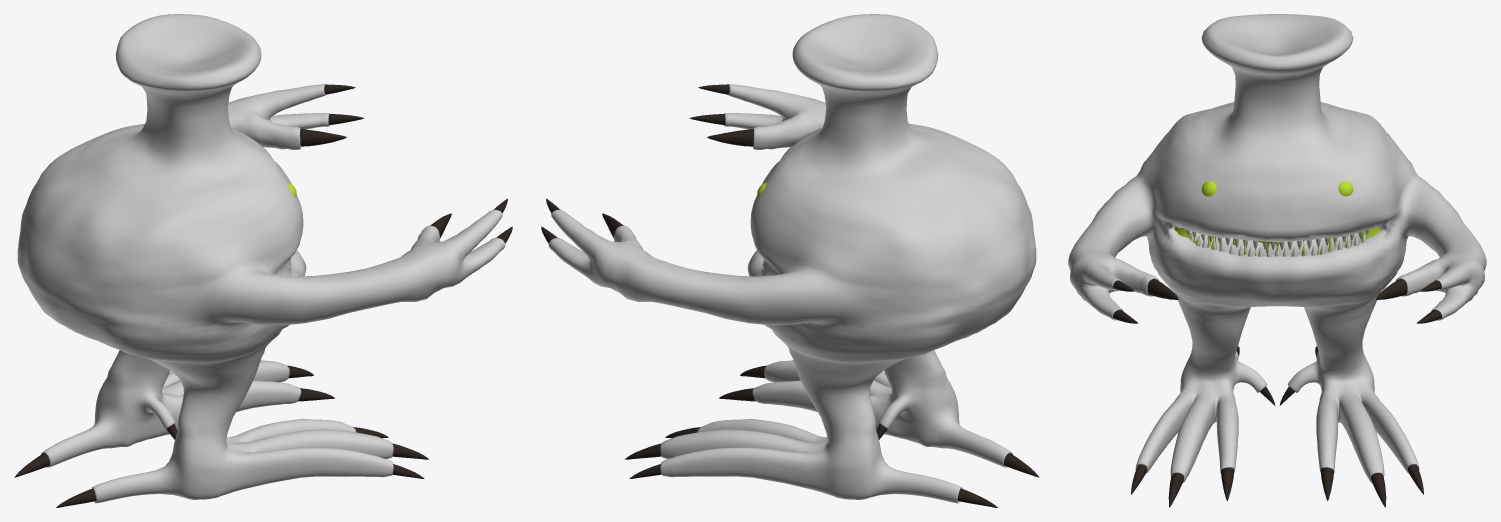
The model's file is monster .obj.
The picture shows the model from 3 angles, left to right: view 1: azimuth 30°, elevation 25°; view 2: azimuth 150°, elevation 25°; view 3: azimuth 270°, elevation 25°; orthographic projection. The views are drawn at different scales.
Parts seen in each view (by area): view 1: Cube.008_Cube.017; view 2: Cube.008_Cube.017; view 3: Cube.008_Cube.017.
Part boxes in pixels (box(x1,y1,x2,y2)): Cube.008_Cube.017: box(14, 14, 512, 507); Cube.008_Cube.017: box(541, 14, 1039, 507); Cube.008_Cube.017: box(1068, 14, 1486, 507).
Size of what is drawn, in the model's own units: 13.96 by 13.85 by 13.33.
